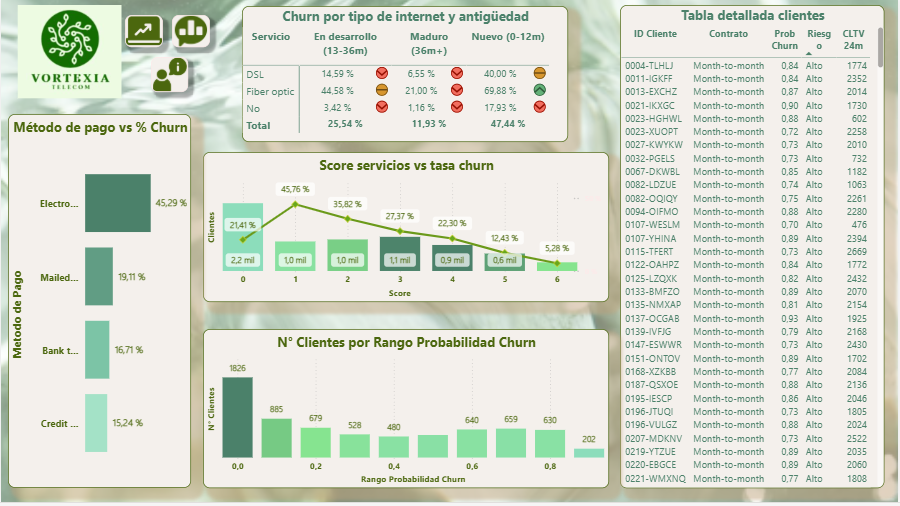

Layout of this report page (visuals, bound fields, positions):
{"tool":"powerbi","page":{"name":"Análisis por Segmento","canvas":[1280,720],"ordinal":1},"visuals":[{"type":"pivotTable","title":"Churn por tipo de internet y antigüedad","fields":{"Rows":["customers_scored.internetservice"],"Columns":["customers_scored.segmento_antiguedad"],"Values":["Cálculos.Tasa Churn %"]},"box":[343.9,12.1,465.2,193.9],"z":0},{"type":"lineStackedColumnComboChart","title":"Score servicios vs tasa churn","fields":{"Category":["customers_scored.score_servicios"],"Y":["Cálculos.Total Clientes"],"Y2":["Cálculos.Tasa Churn %"]},"box":[287.9,221.2,578.8,213.6],"z":1000},{"type":"barChart","title":"Método de pago vs % Churn","fields":{"Category":["customers_scored.paymentmethod"],"Y":["Cálculos.Tasa Churn %"]},"box":[10,167.1,261.4,532.9],"z":2000},{"type":"tableEx","title":"Tabla detallada clientes","fields":{"Values":["customers_scored.customerid","customers_scored.contract","customers_scored.prob_churn","customers_scored.nivel_riesgo","Sum(customers_scored.cltv_proyectado_24m)"]},"box":[882.9,11.4,377.1,688.6],"z":3000},{"type":"clusteredColumnChart","fields":{"Y":["CountNonNull(customers_scored.prob_churn)"],"Category":["customers_scored.prob_churn (ubicaciones)"]},"box":[287.9,472.7,578.8,227.3],"z":4000},{"type":"image","box":[22.9,11.4,150,132.9],"z":5000},{"type":"image","box":[176.9,26.2,54.4,45.6],"z":6000},{"type":"image","box":[244.4,26.1,54.4,45.6],"z":7000},{"type":"image","box":[213.3,85.6,53.3,50],"z":8000}]}

Visuals, with their boxes in screenshot pixels (x1, y1, x2, y2), scaled from the page's 1280x720 canvas onto the 900x506 screenshot:
"Churn por tipo de internet y antigüedad" pivotTable: l=242, t=9, r=569, b=145
"Score servicios vs tasa churn" lineStackedColumnComboChart: l=202, t=155, r=609, b=306
"Método de pago vs % Churn" barChart: l=7, t=117, r=191, b=492
"Tabla detallada clientes" tableEx: l=621, t=8, r=886, b=492
clusteredColumnChart - CountNonNull(customers_scored.prob_churn) x customers_scored.prob_churn (ubicaciones): l=202, t=332, r=609, b=492
image: l=16, t=8, r=122, b=101
image: l=124, t=18, r=163, b=50
image: l=172, t=18, r=210, b=50
image: l=150, t=60, r=187, b=95
